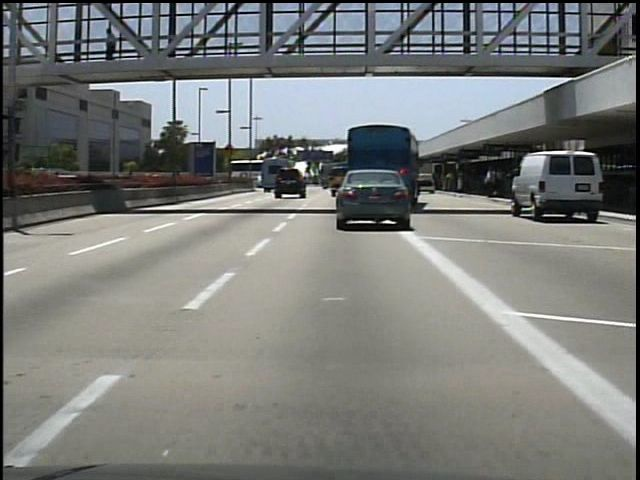person: (102, 25, 124, 73), (485, 163, 500, 198)
